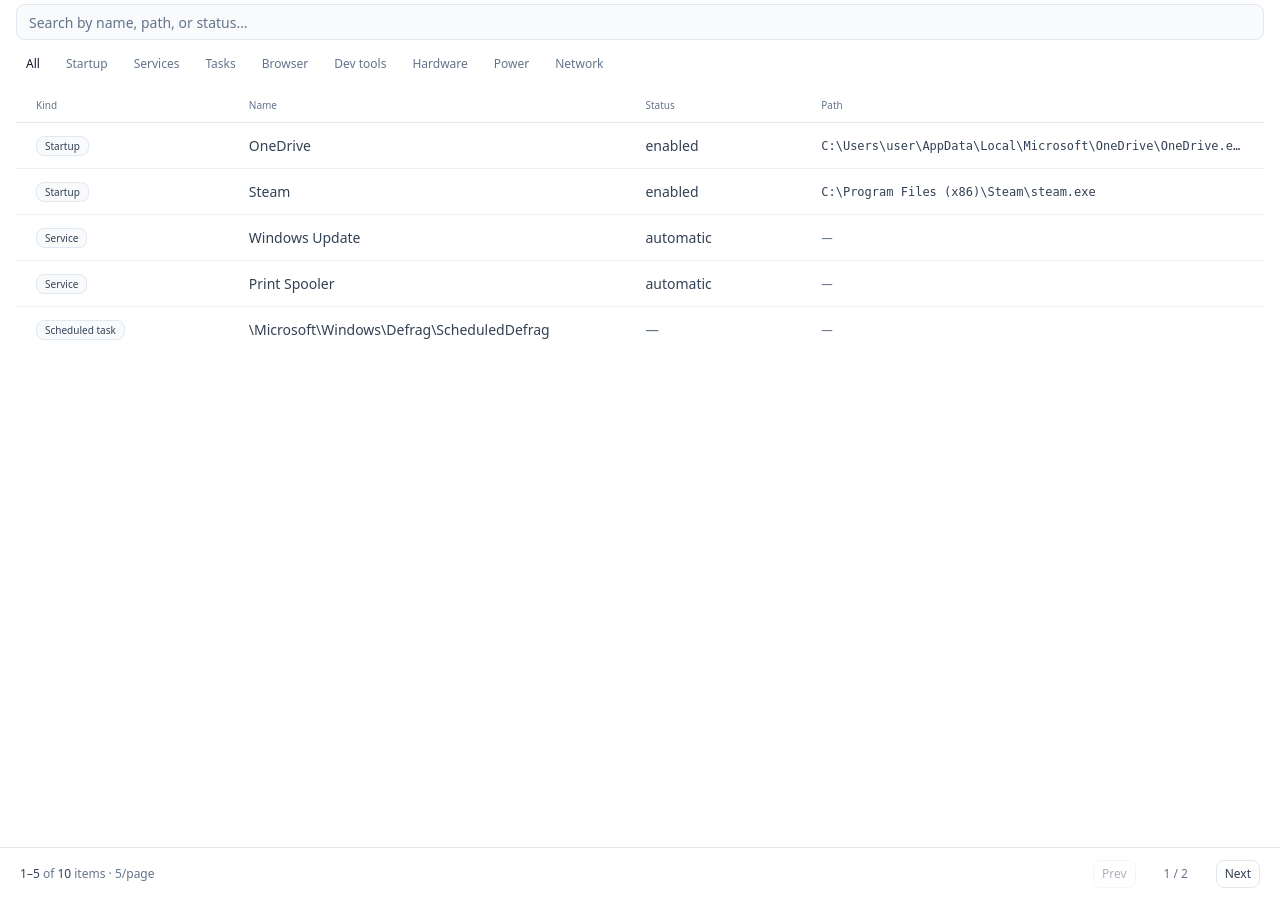
Test: ConfigItemsTable › filters by status via search
In the search field named "search configuration items": [640, 22] box [16, 4, 1264, 40], type "automatic"
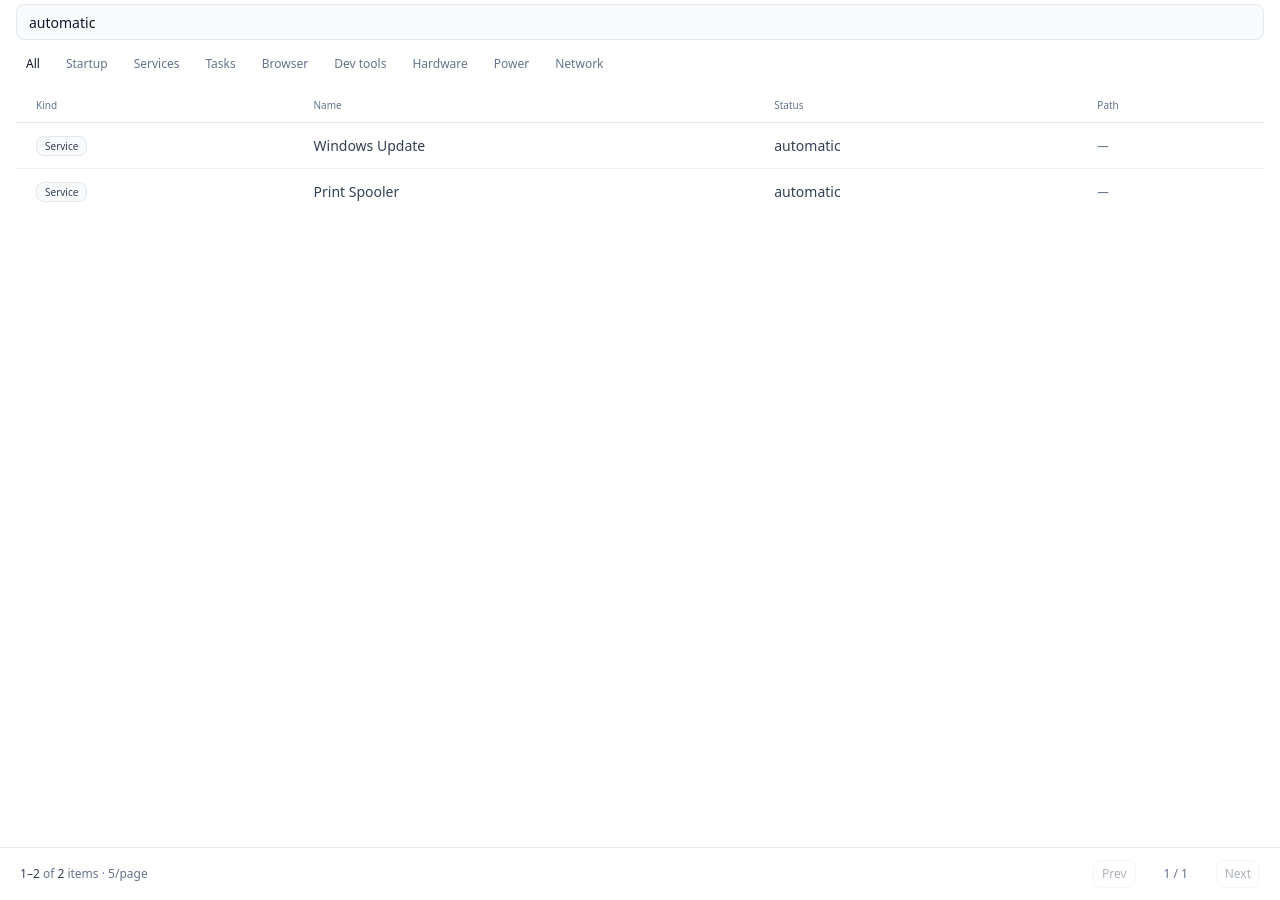
Expected: the text "Windows Update" is shown, [294, 122, 754, 168]
Expected: the text "OneDrive" is gone
